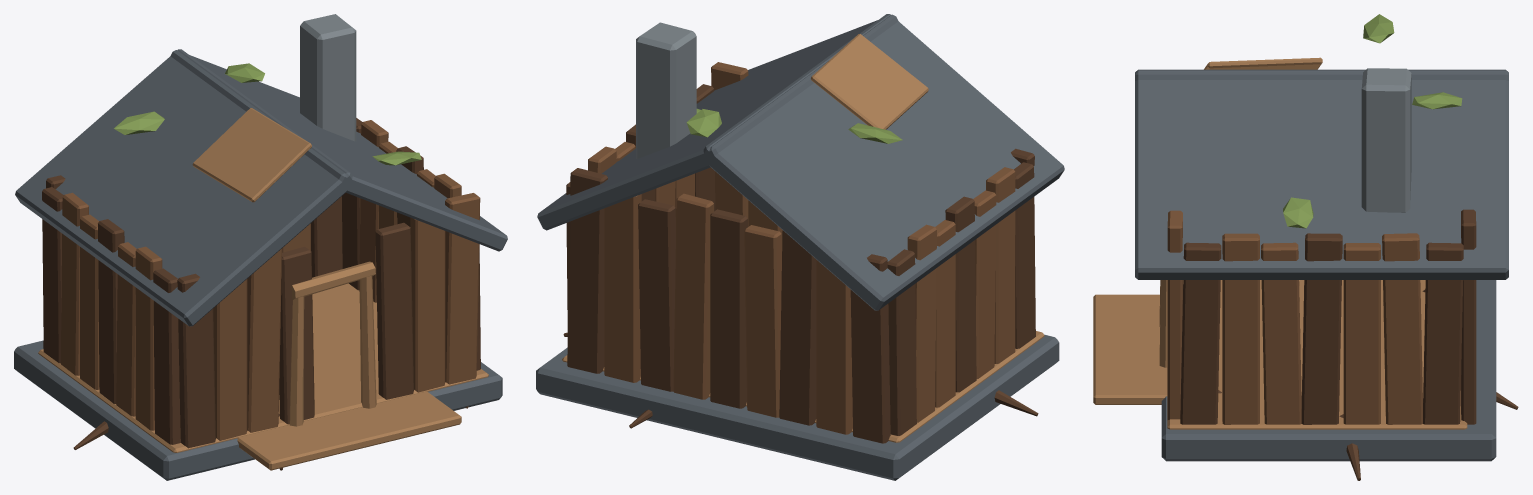
File: mesh_crooked_farmhouse_a.glb
3 renders of one model, left to right at view 1: azimuth 30°, elevation 25°; view 2: azimuth 150°, elevation 25°; view 3: azimuth 270°, elevation 25°, orthographic. The views are drawn at different scales.
Parts seen in each view (by area): view 1: mesh_crooked_farmhouse_a__stone_dark, mesh_crooked_farmhouse_a__bark_mid, mesh_crooked_farmhouse_a__bark_dark, mesh_crooked_farmhouse_a__bark_cut, mesh_crooked_farmhouse_a__stone, mesh_crooked_farmhouse_a__moss; view 2: mesh_crooked_farmhouse_a__stone_dark, mesh_crooked_farmhouse_a__bark_dark, mesh_crooked_farmhouse_a__bark_mid, mesh_crooked_farmhouse_a__bark_cut, mesh_crooked_farmhouse_a__stone, mesh_crooked_farmhouse_a__moss; view 3: mesh_crooked_farmhouse_a__stone_dark, mesh_crooked_farmhouse_a__bark_mid, mesh_crooked_farmhouse_a__bark_dark, mesh_crooked_farmhouse_a__bark_cut, mesh_crooked_farmhouse_a__stone, mesh_crooked_farmhouse_a__moss.
Boxes of the visible parts, left/top/right/bottom form: mesh_crooked_farmhouse_a__stone_dark: left=14, top=49, right=507, bottom=480; mesh_crooked_farmhouse_a__bark_mid: left=60, top=120, right=480, bottom=440; mesh_crooked_farmhouse_a__bark_dark: left=42, top=118, right=480, bottom=470; mesh_crooked_farmhouse_a__bark_cut: left=38, top=108, right=488, bottom=470; mesh_crooked_farmhouse_a__stone: left=300, top=14, right=356, bottom=141; mesh_crooked_farmhouse_a__moss: left=114, top=63, right=421, bottom=165; mesh_crooked_farmhouse_a__stone_dark: left=536, top=14, right=1064, bottom=480; mesh_crooked_farmhouse_a__bark_dark: left=563, top=84, right=1038, bottom=443; mesh_crooked_farmhouse_a__bark_mid: left=588, top=62, right=1015, bottom=434; mesh_crooked_farmhouse_a__bark_cut: left=562, top=34, right=1044, bottom=442; mesh_crooked_farmhouse_a__stone: left=636, top=22, right=696, bottom=158; mesh_crooked_farmhouse_a__moss: left=686, top=108, right=902, bottom=143; mesh_crooked_farmhouse_a__stone_dark: left=1135, top=69, right=1508, bottom=461; mesh_crooked_farmhouse_a__bark_mid: left=1167, top=210, right=1422, bottom=424; mesh_crooked_farmhouse_a__bark_dark: left=1180, top=209, right=1518, bottom=480; mesh_crooked_farmhouse_a__bark_cut: left=1093, top=57, right=1467, bottom=429; mesh_crooked_farmhouse_a__stone: left=1361, top=68, right=1411, bottom=212; mesh_crooked_farmhouse_a__moss: left=1283, top=14, right=1462, bottom=228.
Size of the model in its own units: 23.59 by 17.57 by 19.49.
